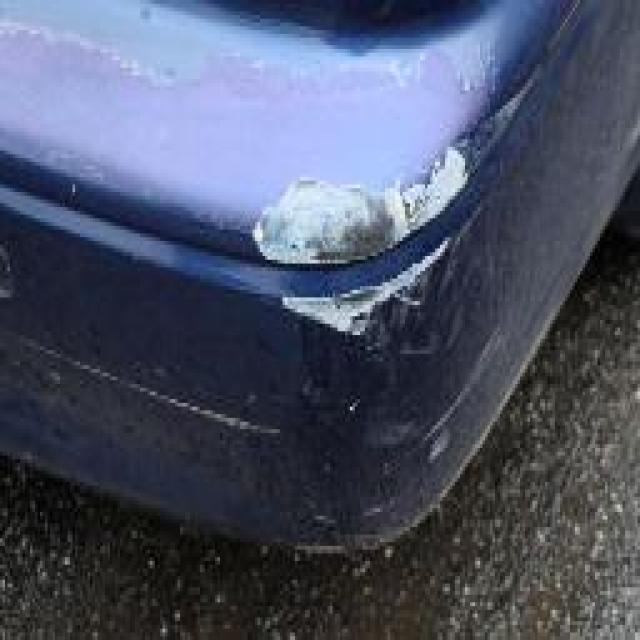Bumper: (1, 83, 530, 447)
